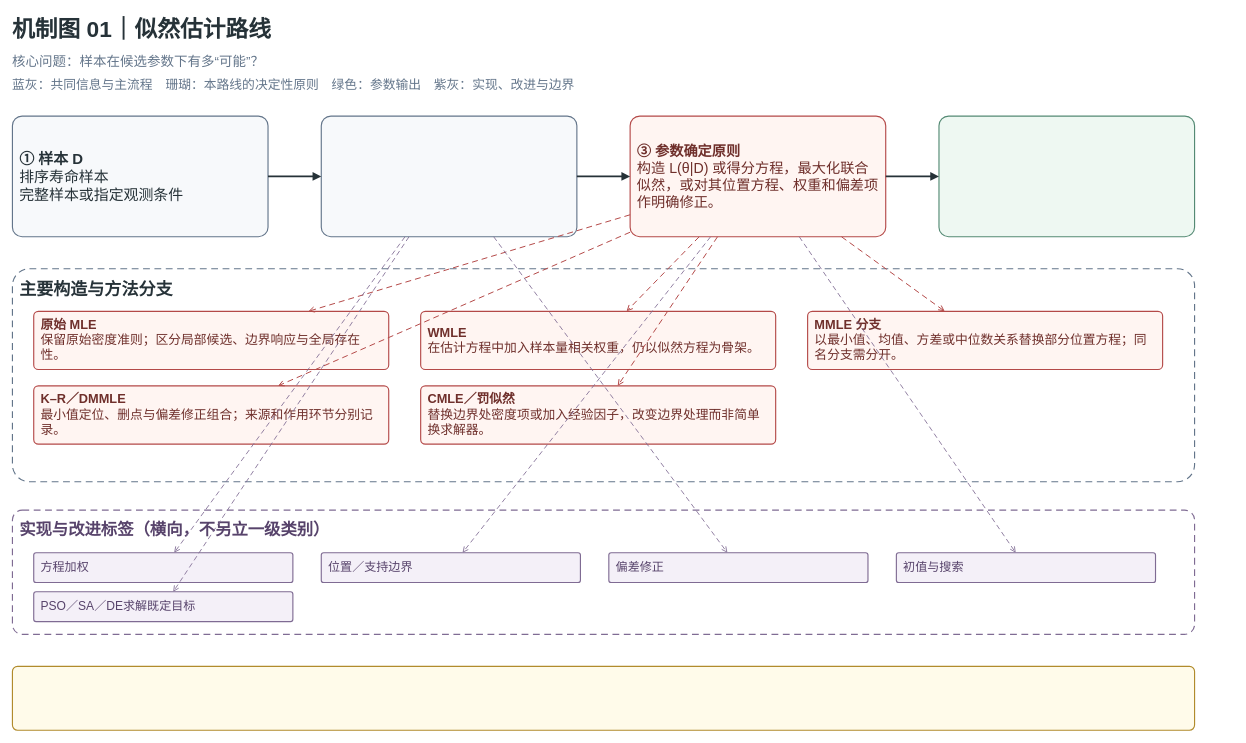
The diagram is 1246 pixels wide and 743 high, and some of its shapes have lost their labels. Here are the shapes that lost their labels. From the top down, the centre of each, then its label:
point (448, 176): ② 信息利用 观测处密度 f(tᵢ;β,η,γ)；位置参数决定支持边界，联合密度同时携带三参数信息。
point (1066, 176): ④ 三参数估计 β̂、η̂、γ̂ 并伴随边界、局部极大、失败与求解诊断
point (603, 697): 解释边界 采用智能优化器搜索同一似然目标时，仍属于似然路线；有限搜索不自动证明全局MLE存在。
